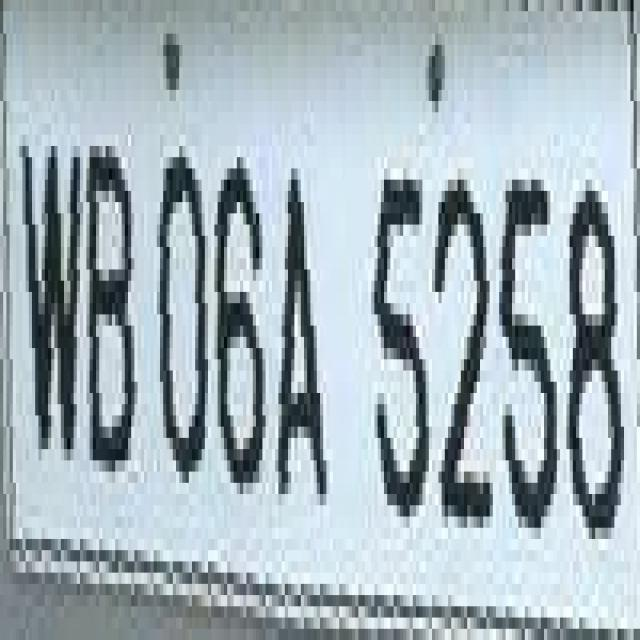license_plate: (19, 0, 640, 629)
